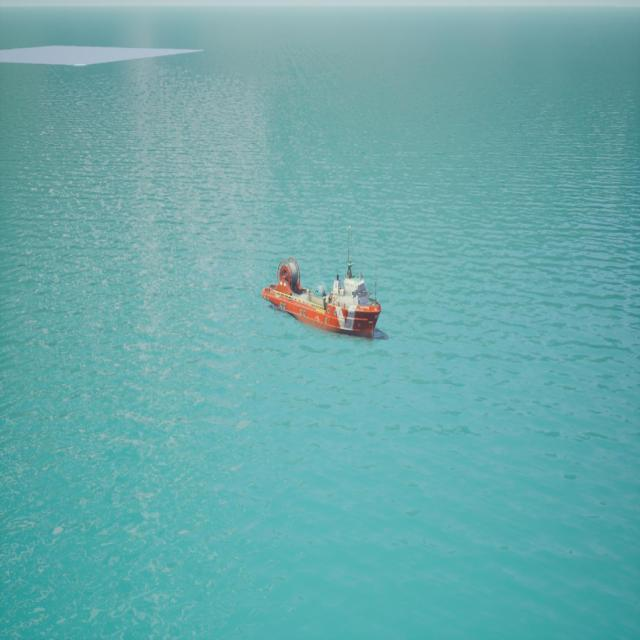tug boat: (261, 248, 385, 343)
